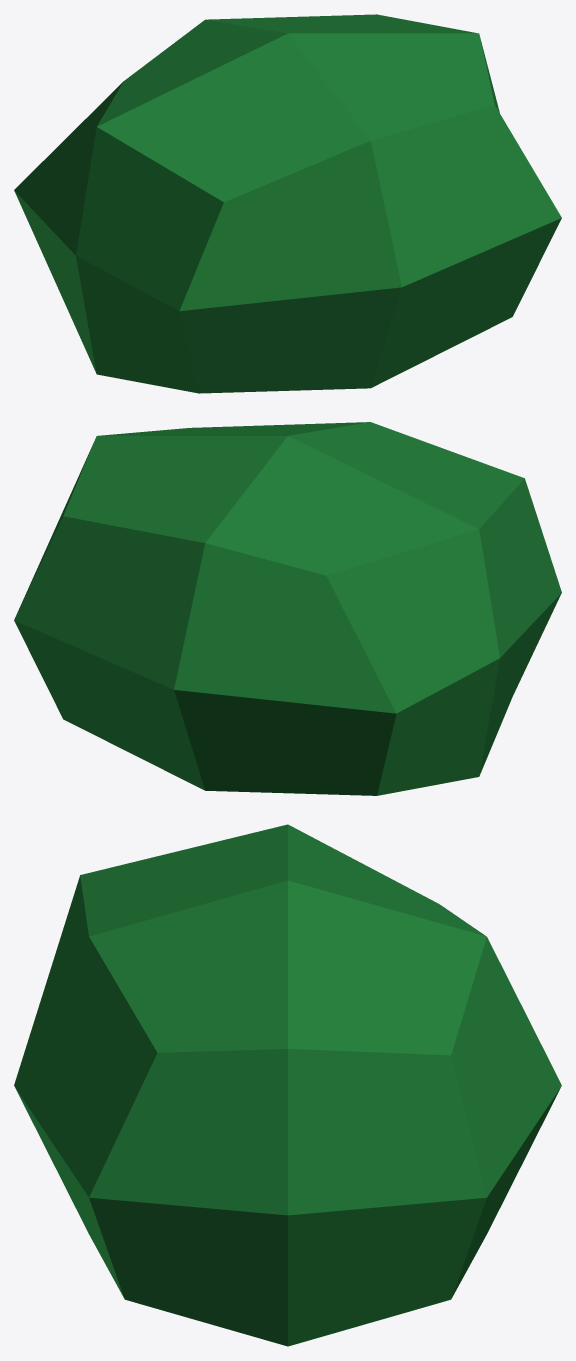
Rendered from bush.fbx.
3 views of the same model, one above another, from view 1: azimuth 30°, elevation 25°; view 2: azimuth 150°, elevation 25°; view 3: azimuth 270°, elevation 25° (orthographic). The views are drawn at different scales.
Visible parts, largest first — view 1: Bush; view 2: Bush; view 3: Bush.
Part boxes in pixels (x1,y1,x2,y2): Bush: [14, 14, 561, 393]; Bush: [14, 422, 561, 795]; Bush: [14, 824, 561, 1346].
Bounding box in the file's own units: 92.21 × 69.32 × 83.95.
